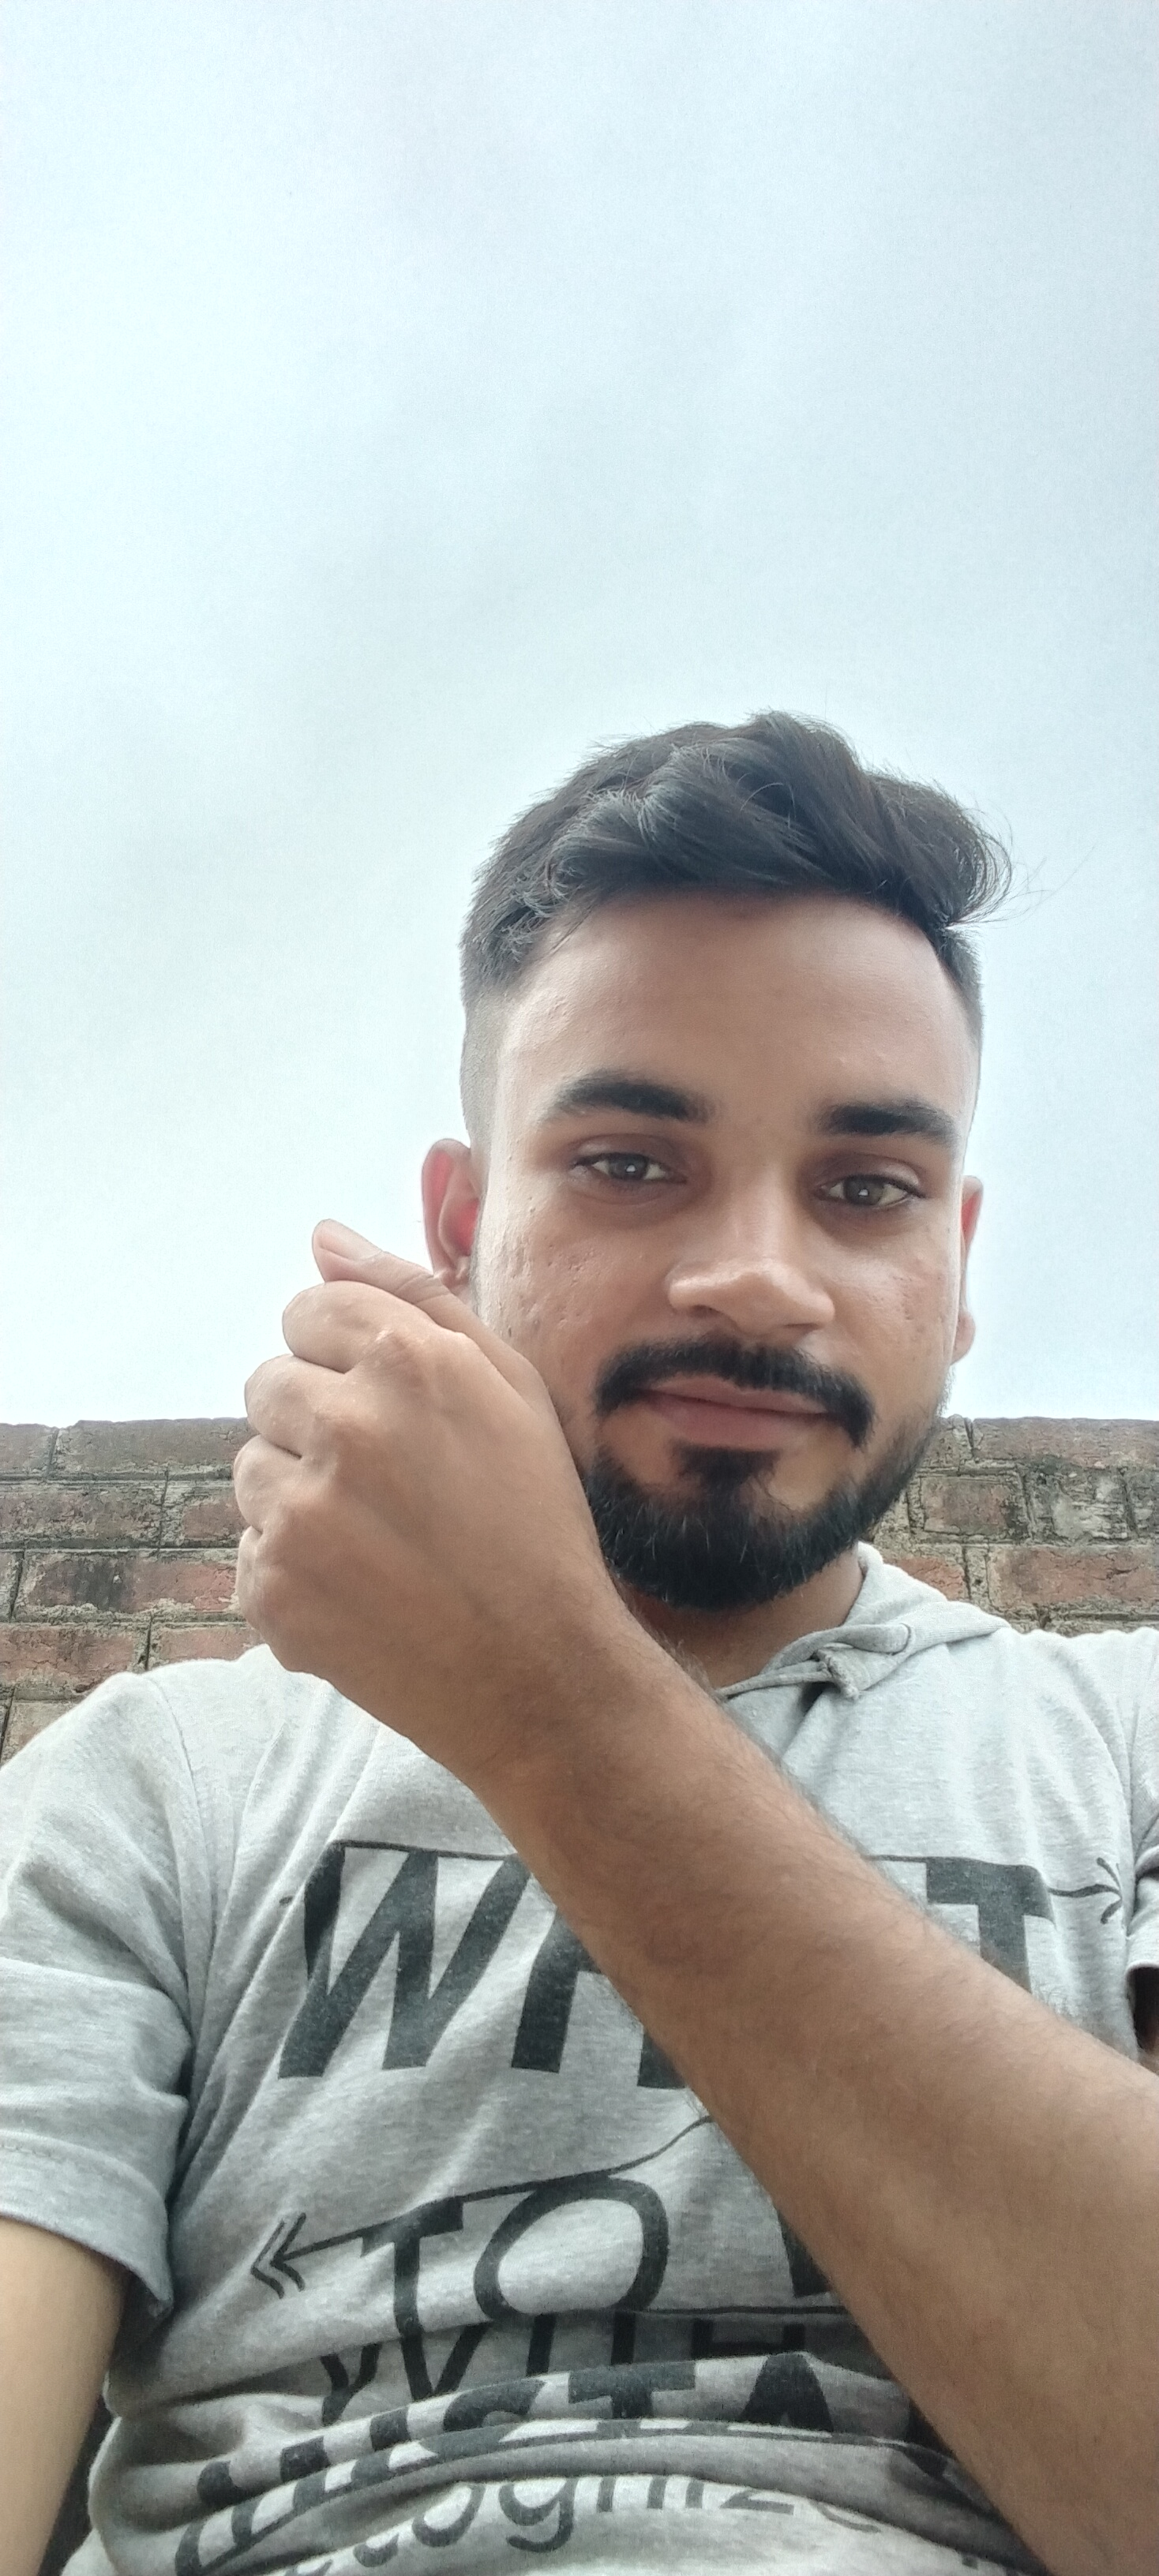Sorry: (199, 1194, 641, 1755)
